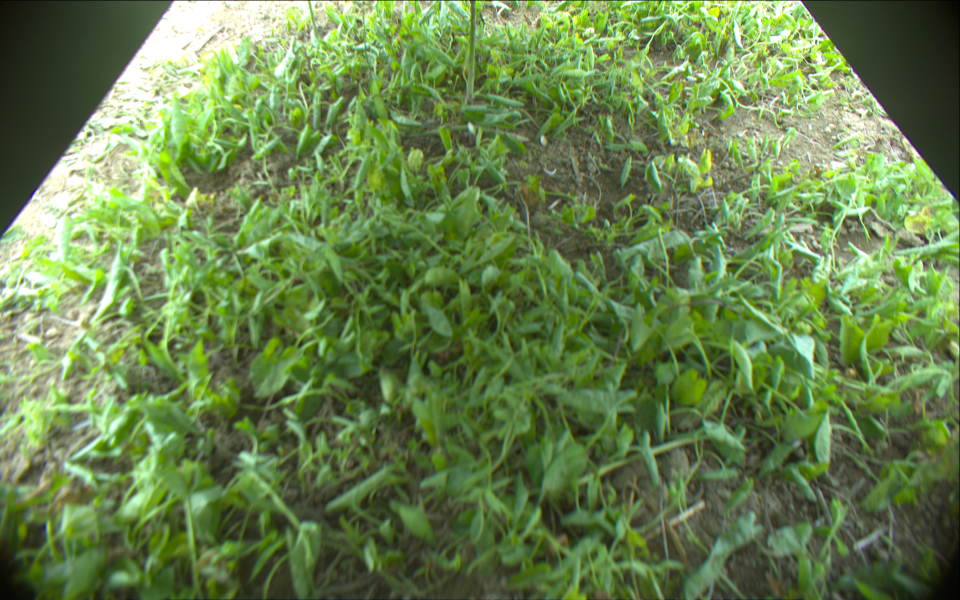aspa: (467, 1, 478, 100), (306, 1, 318, 36)
